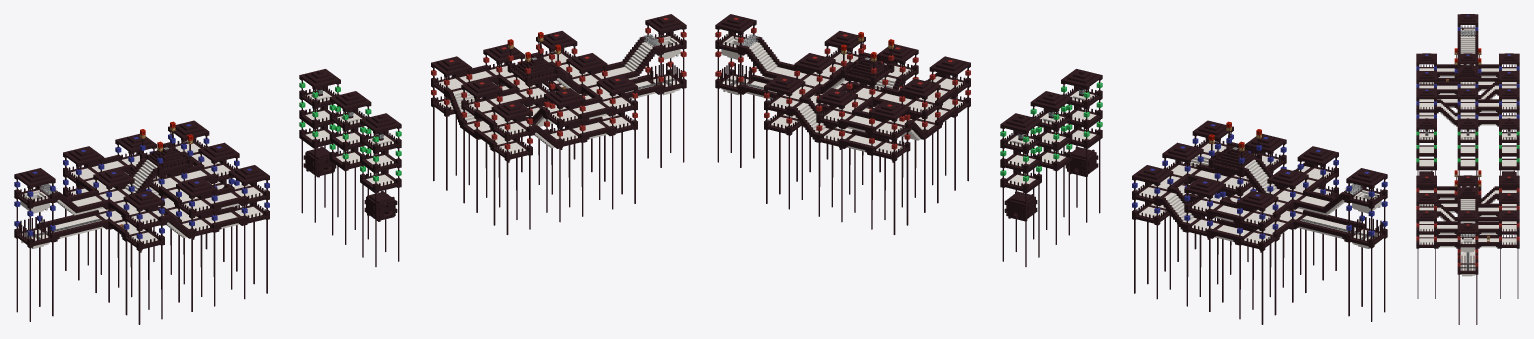
The model's file is minecraft.obj.
The picture shows the model from 3 angles, left to right: view 1: azimuth 30°, elevation 25°; view 2: azimuth 150°, elevation 25°; view 3: azimuth 270°, elevation 25°; orthographic projection. The views are drawn at different scales.
Size of the model in its own units: 1750 by 380 by 350.
